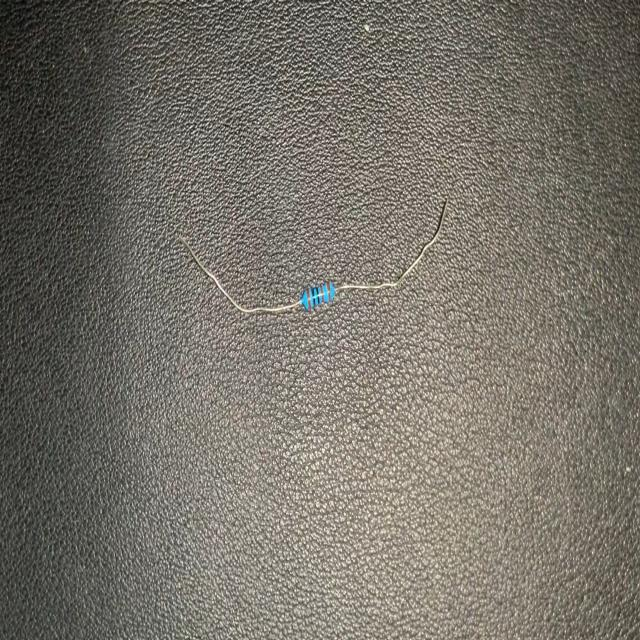resistor: (177, 202, 449, 314)
